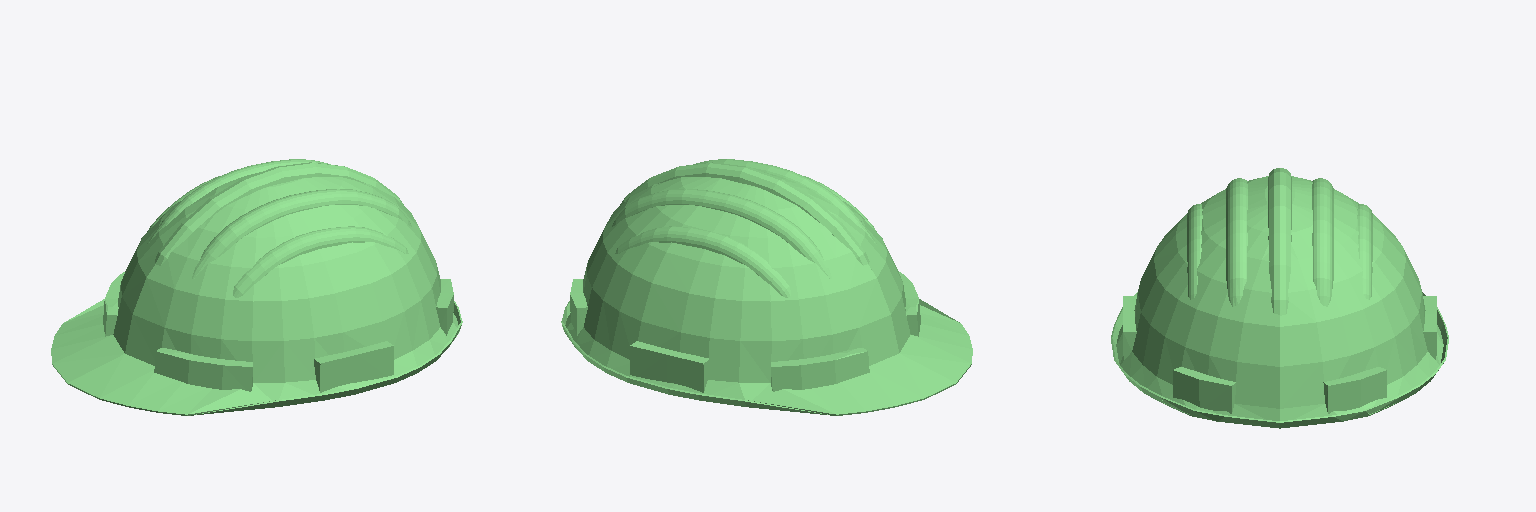
Rendered from helmet.obj.
The picture shows the model from 3 angles: view 1: azimuth 30°, elevation 25°; view 2: azimuth 150°, elevation 25°; view 3: azimuth 270°, elevation 25°; orthographic projection.
Visible parts, largest first — view 1: Circle01; view 2: Circle01; view 3: Circle01.
Part boxes in pixels (bbox=[...]): Circle01: bbox=[51, 159, 462, 415]; Circle01: bbox=[561, 159, 972, 415]; Circle01: bbox=[1111, 168, 1448, 428].
Bounding box in the file's own units: 100 × 42.01 × 77.83.